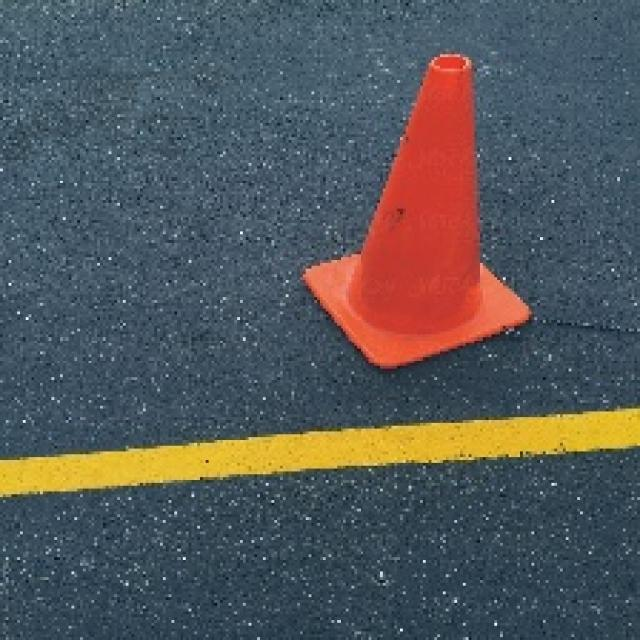traffic cone: (300, 53, 534, 370)
